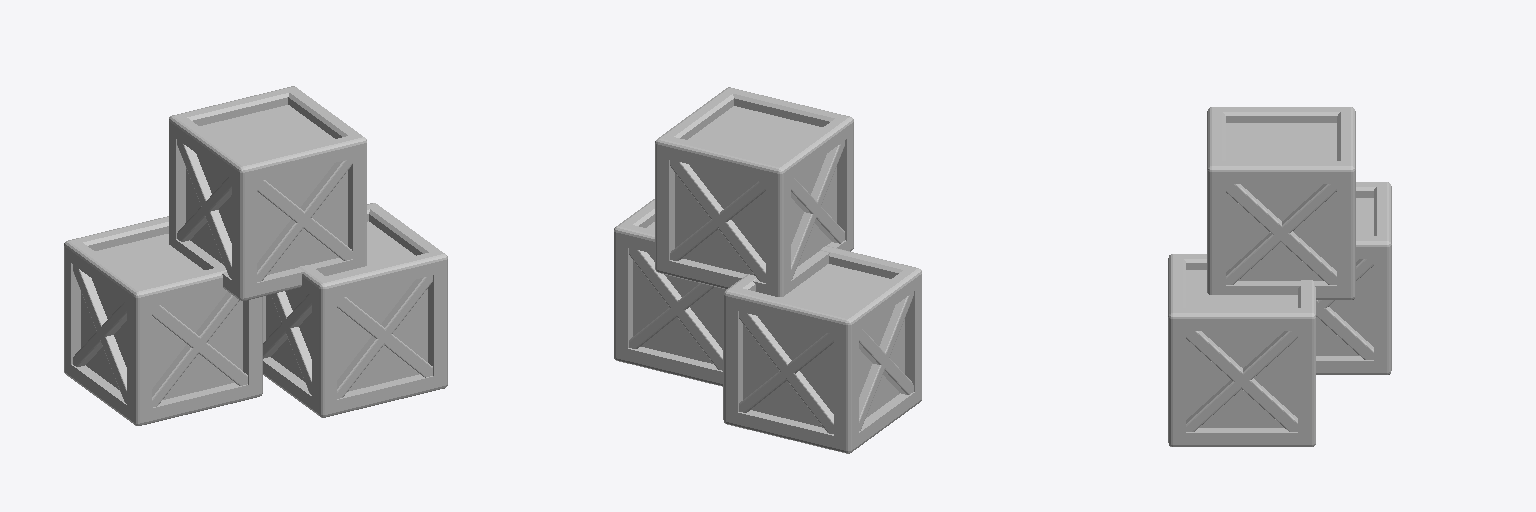
Rendered from env2-crate.obj.
3 renders of one model, left to right at view 1: azimuth 30°, elevation 25°; view 2: azimuth 150°, elevation 25°; view 3: azimuth 270°, elevation 25°, orthographic.
Visible parts, largest first — view 1: Crate_Plane.009, Crate_Plane.007, Crate_Plane.008; view 2: Crate_Plane.009, Crate_Plane.007, Crate_Plane.008; view 3: Crate_Plane.009, Crate_Plane.008, Crate_Plane.007.
Boxes of the visible parts, x1,y1,x2,y2 form: Crate_Plane.009: [169, 86, 366, 300]; Crate_Plane.007: [64, 216, 262, 425]; Crate_Plane.008: [263, 203, 447, 417]; Crate_Plane.009: [655, 87, 853, 296]; Crate_Plane.007: [723, 246, 921, 453]; Crate_Plane.008: [614, 199, 725, 386]; Crate_Plane.009: [1207, 107, 1355, 299]; Crate_Plane.008: [1168, 254, 1315, 446]; Crate_Plane.007: [1316, 182, 1391, 374].
Size of the model in its own units: 10.75 by 9.37 by 7.54.